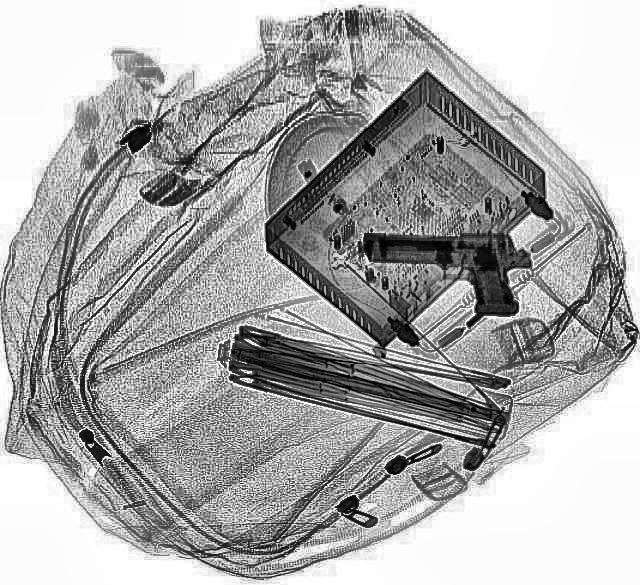Gun: (362, 233, 530, 314)
